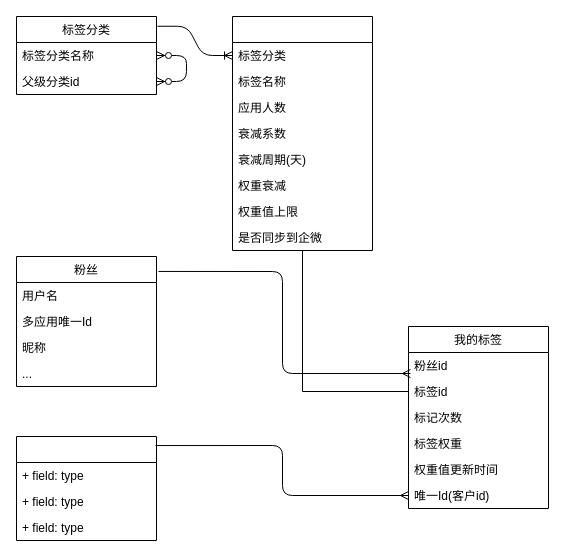
This 565x557 diagram has some shape labels left out. The shapes that lost their labels are listed below. From the top down, each one's box as (x1, y1, x2, y2) in pixels, then its label:
(232, 16, 372, 250): 标签
(16, 436, 156, 540): 客户
